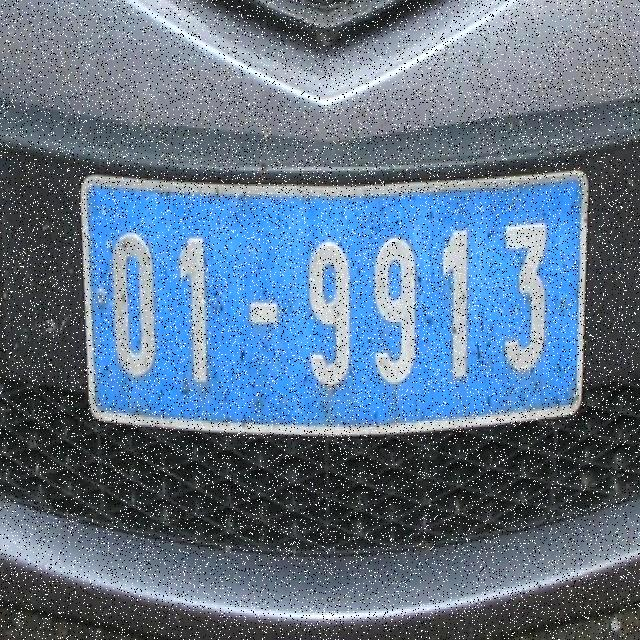licenseplate: (79, 174, 587, 426)
